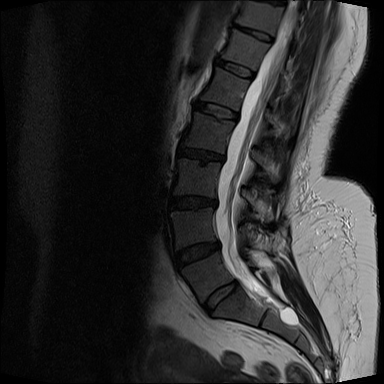Lumbar Disc Bulge (LDB): (167, 234, 227, 276), (200, 276, 246, 322), (188, 94, 243, 127), (163, 187, 221, 215), (172, 141, 230, 168)
Normal IVD: (226, 19, 278, 48), (209, 56, 259, 84)
Spinal Stenosis (SS): (229, 105, 246, 126), (216, 150, 232, 167), (212, 235, 225, 254), (229, 274, 242, 293), (207, 193, 219, 212)
